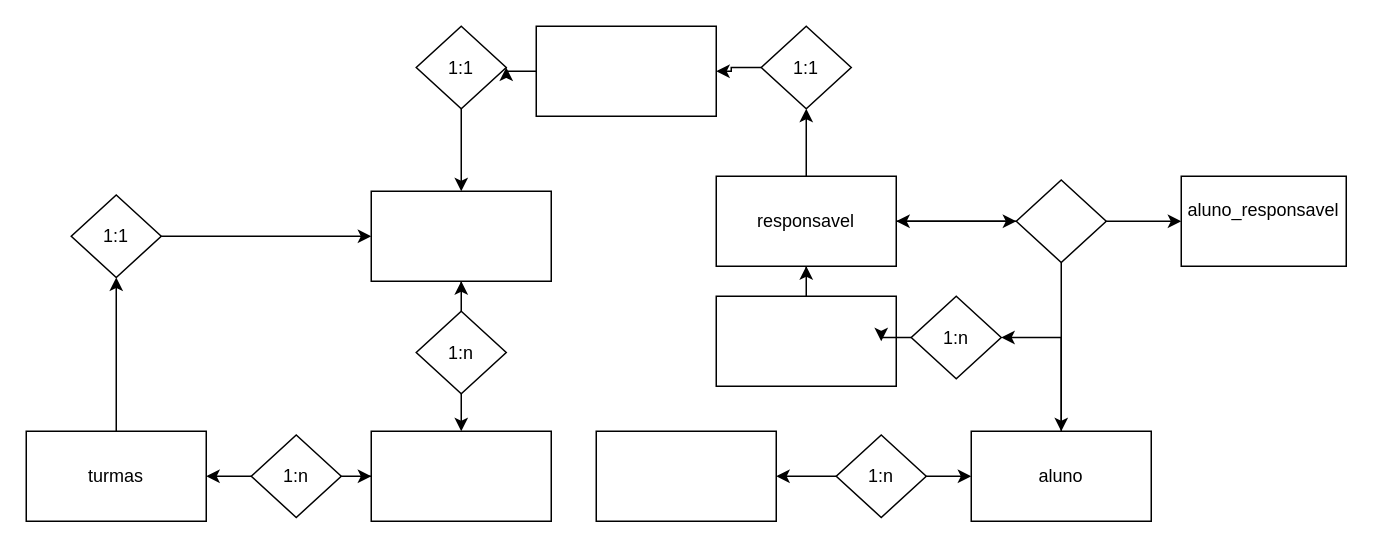
Some shapes in this 1373 by 548 pixel diagram are drawn without their labels. Each missing label, with the centre of its shape:
atividades: pixel 460 475
n:n: pixel 1060 220
pagamento: pixel 805 340
presenças: pixel 685 475
professor: pixel 460 235
Usuario: pixel 625 70
